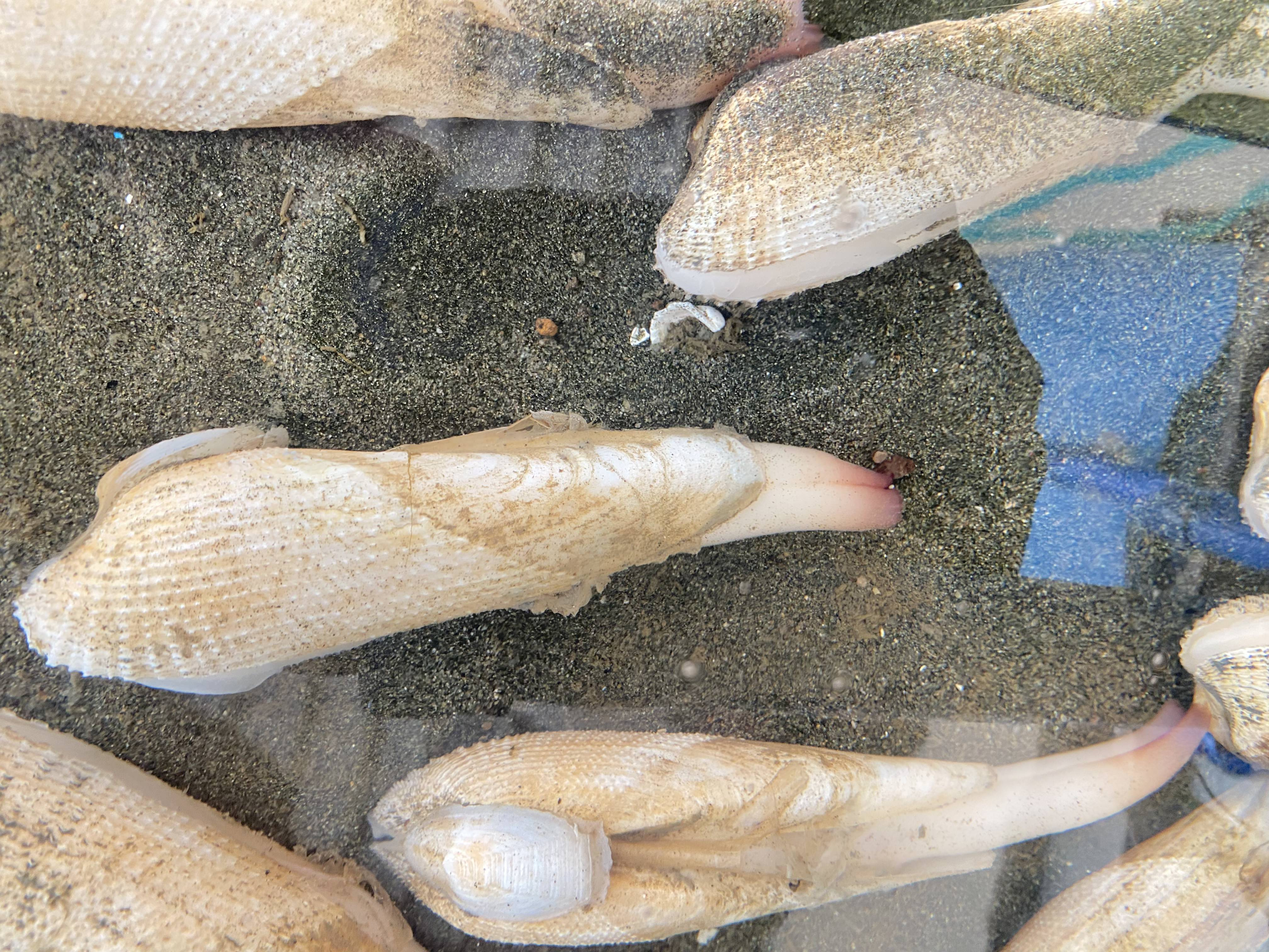Healthy: (15, 427, 903, 693), (371, 702, 1209, 944), (656, 0, 1269, 301), (0, 0, 818, 130)
